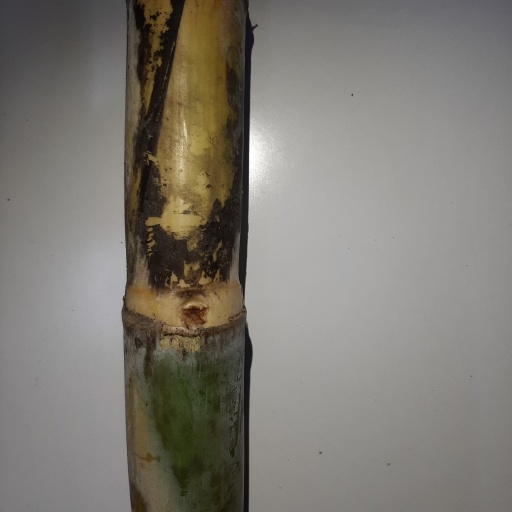Damage_Bud: (180, 297, 208, 331)
